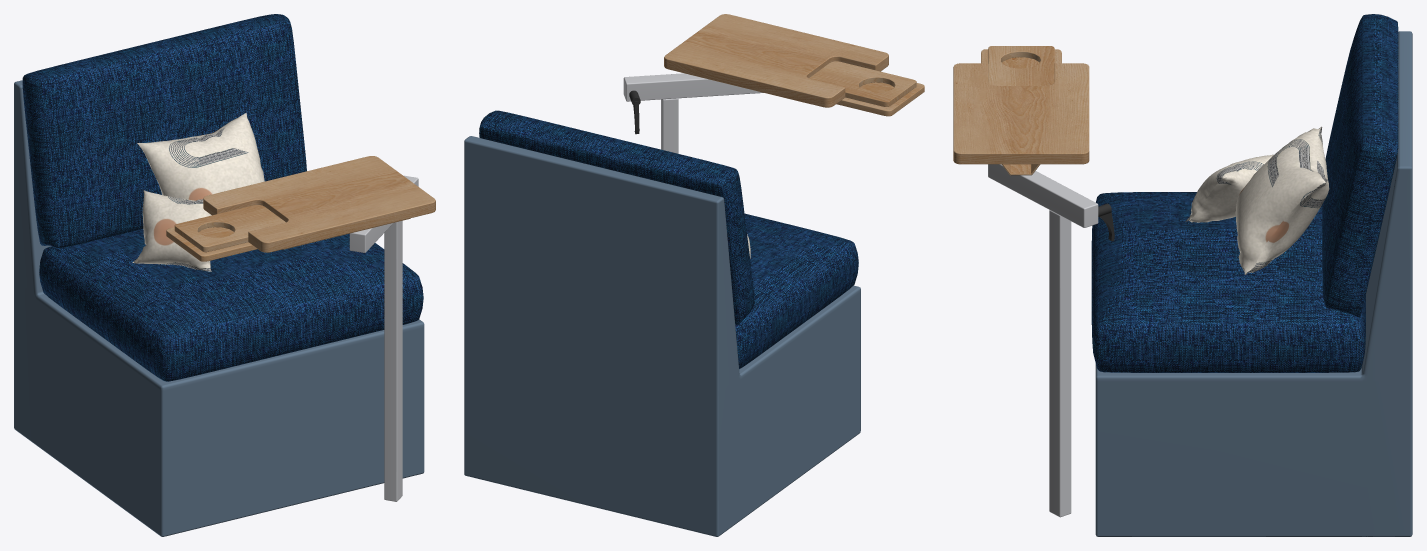
File: Sofa_Chair_V1.glb
3 views of the same model, side by side, from view 1: azimuth 30°, elevation 25°; view 2: azimuth 150°, elevation 25°; view 3: azimuth 270°, elevation 25° (orthographic). The views are drawn at different scales.
Visible parts, largest first — view 1: AO_1_Sofa_chair1; view 2: AO_1_Sofa_chair1; view 3: AO_1_Sofa_chair1.
Part boxes in pixels (left/top/right/bottom): AO_1_Sofa_chair1: left=14, top=14, right=435, bottom=536; AO_1_Sofa_chair1: left=464, top=14, right=924, bottom=536; AO_1_Sofa_chair1: left=953, top=14, right=1412, bottom=536.
Size of the model in its own units: 0.6481 by 0.8131 by 0.8676.
Materials: 6 (6 with a texture image).
